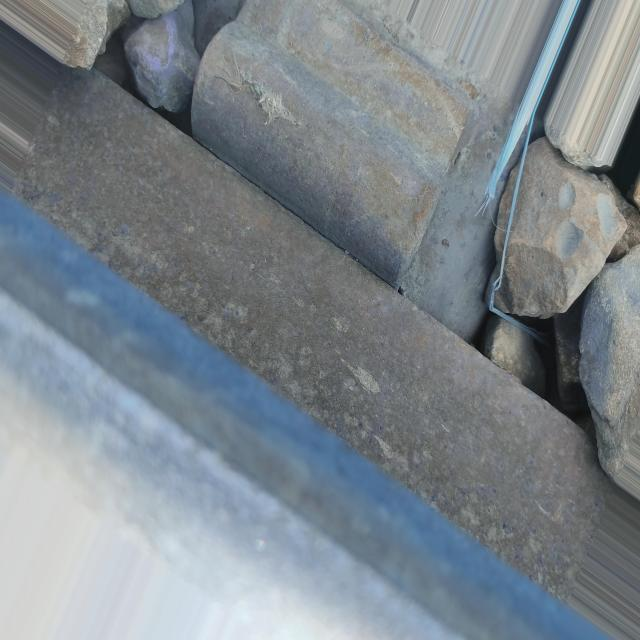Missing Fastener: (180, 0, 480, 321)
